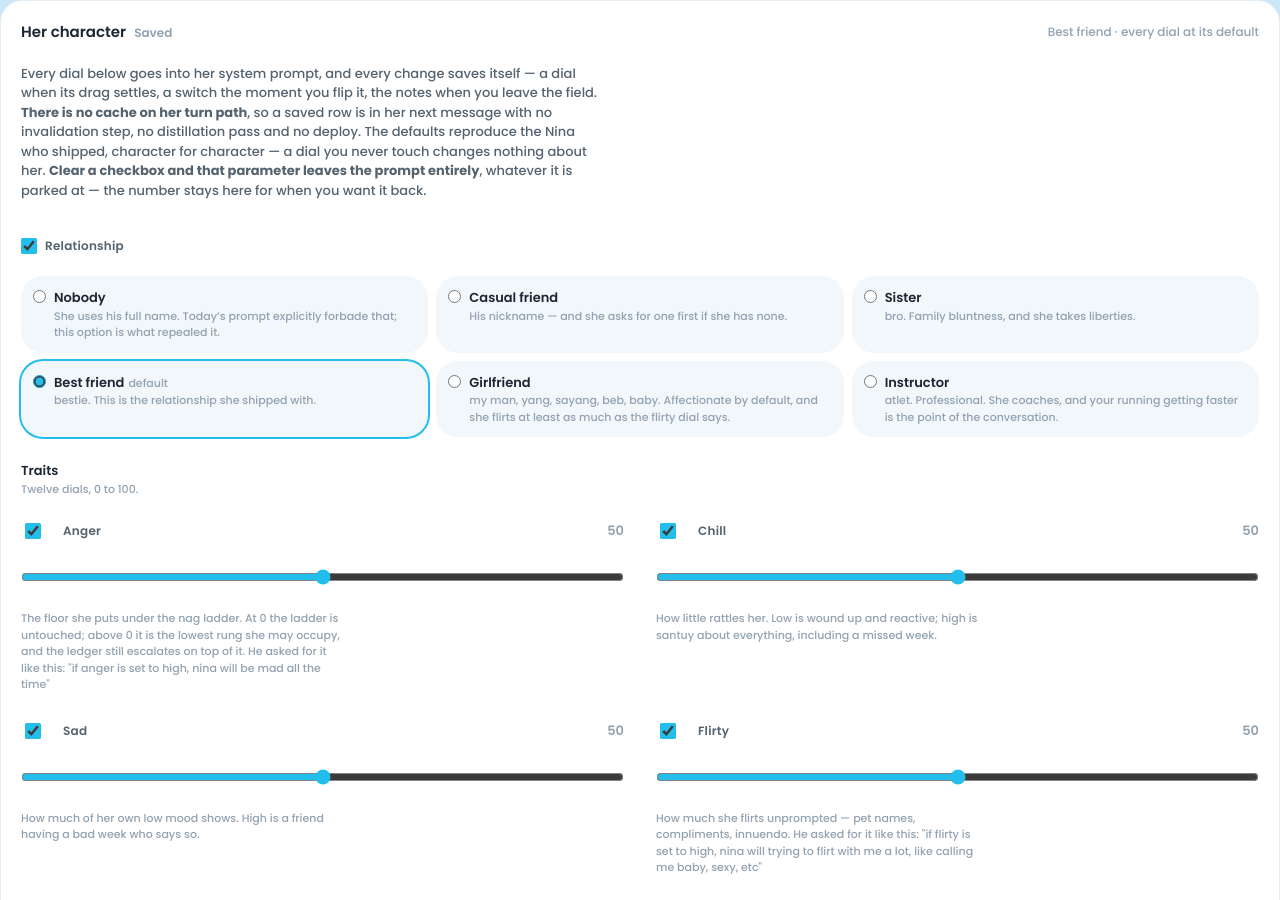
Test: CharacterPanel — chrome › names the loudest diverging dial and its value in the header once it differs from default
The width and height of the screenshot is (1280, 900).
Set the slider labelled "Anger" to "75": (469, 577) [21,555,624,599]
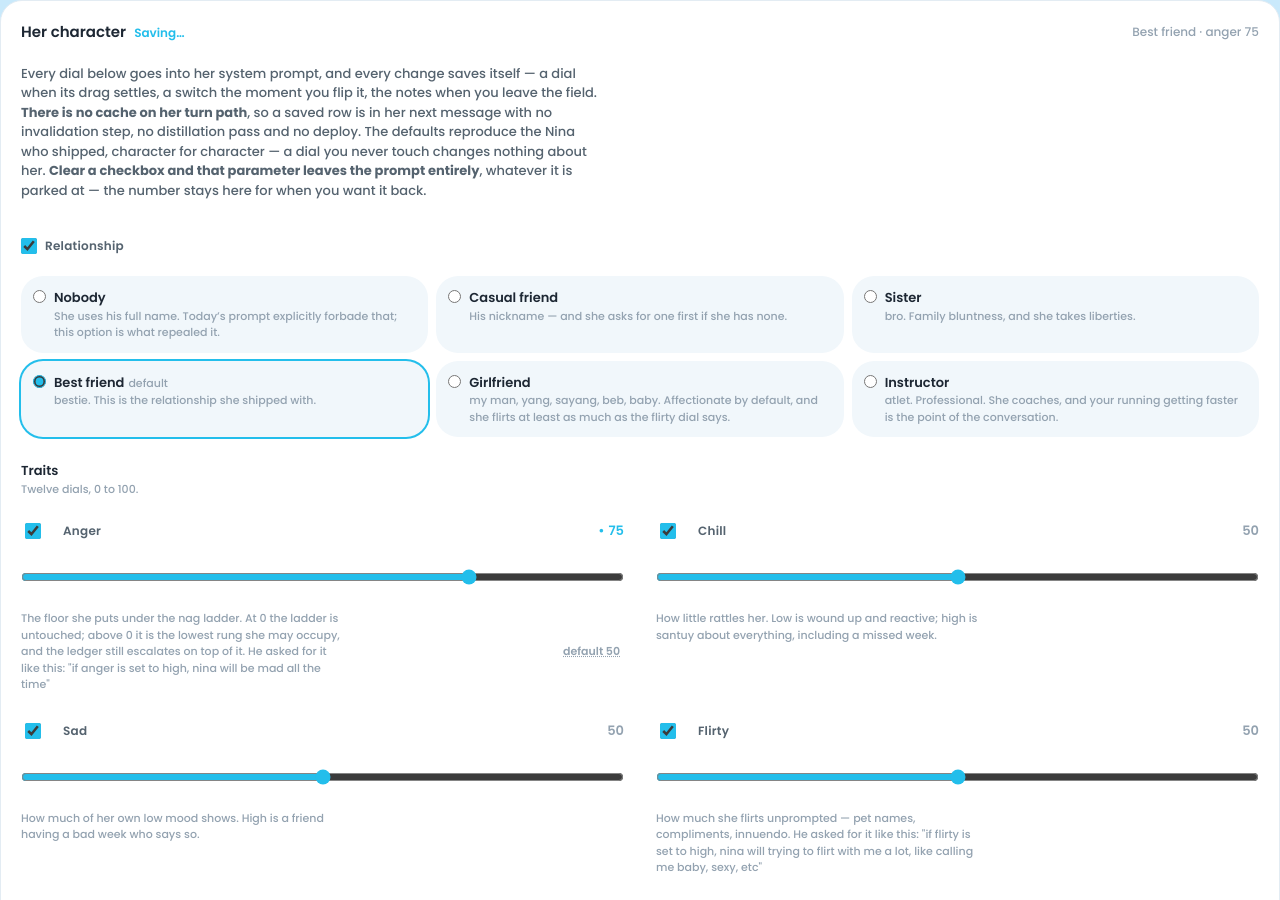
expect the text "Best friend · anger 75" is shown: met, box [1132,23,1259,41]
